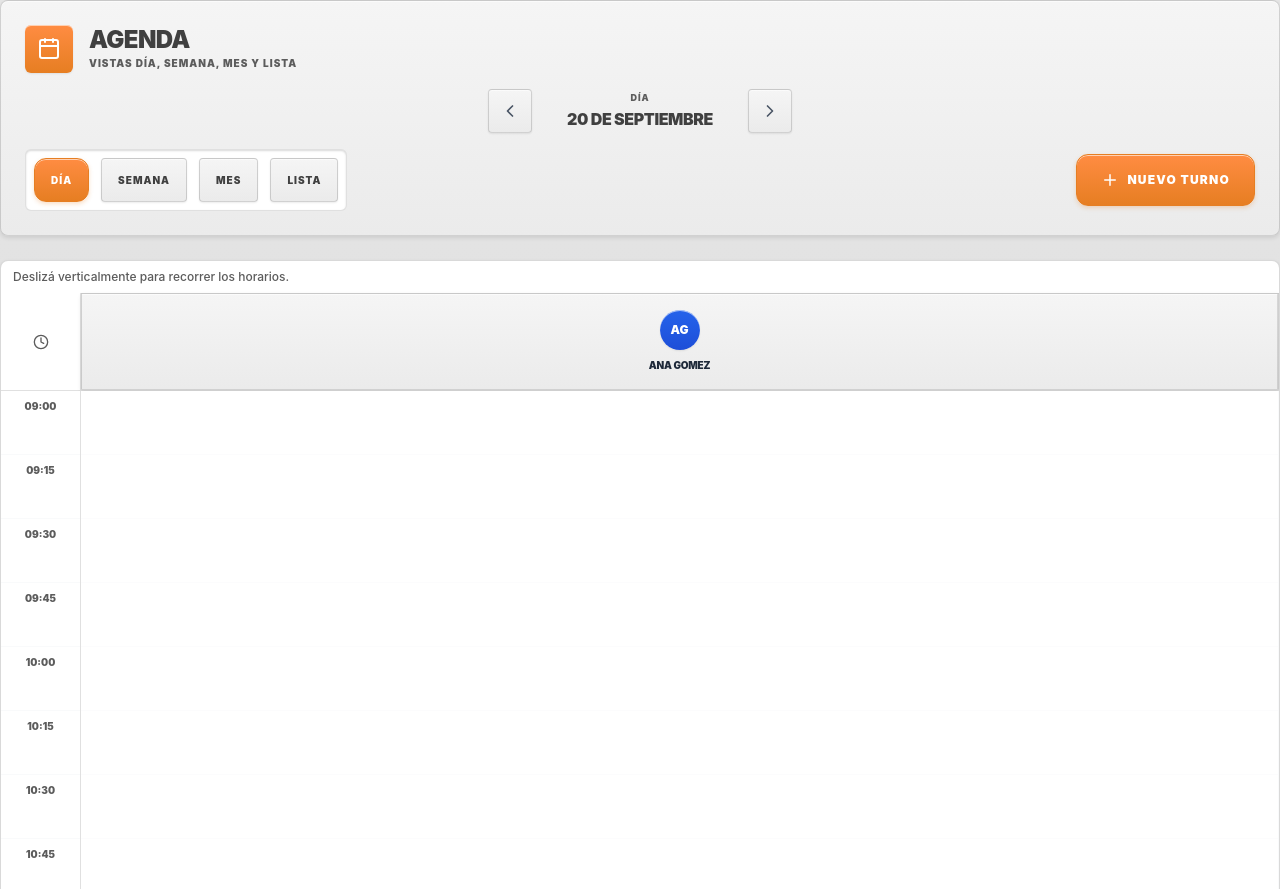
Test: CalendarContainer - vistas, orden y navegacion (F11c-08) › la vista Mes salta hacia atras a 20 de agosto y hacia adelante a 20 de octubre
Click the button "Mes". click: x=229, y=180
box: [199,158,258,202]
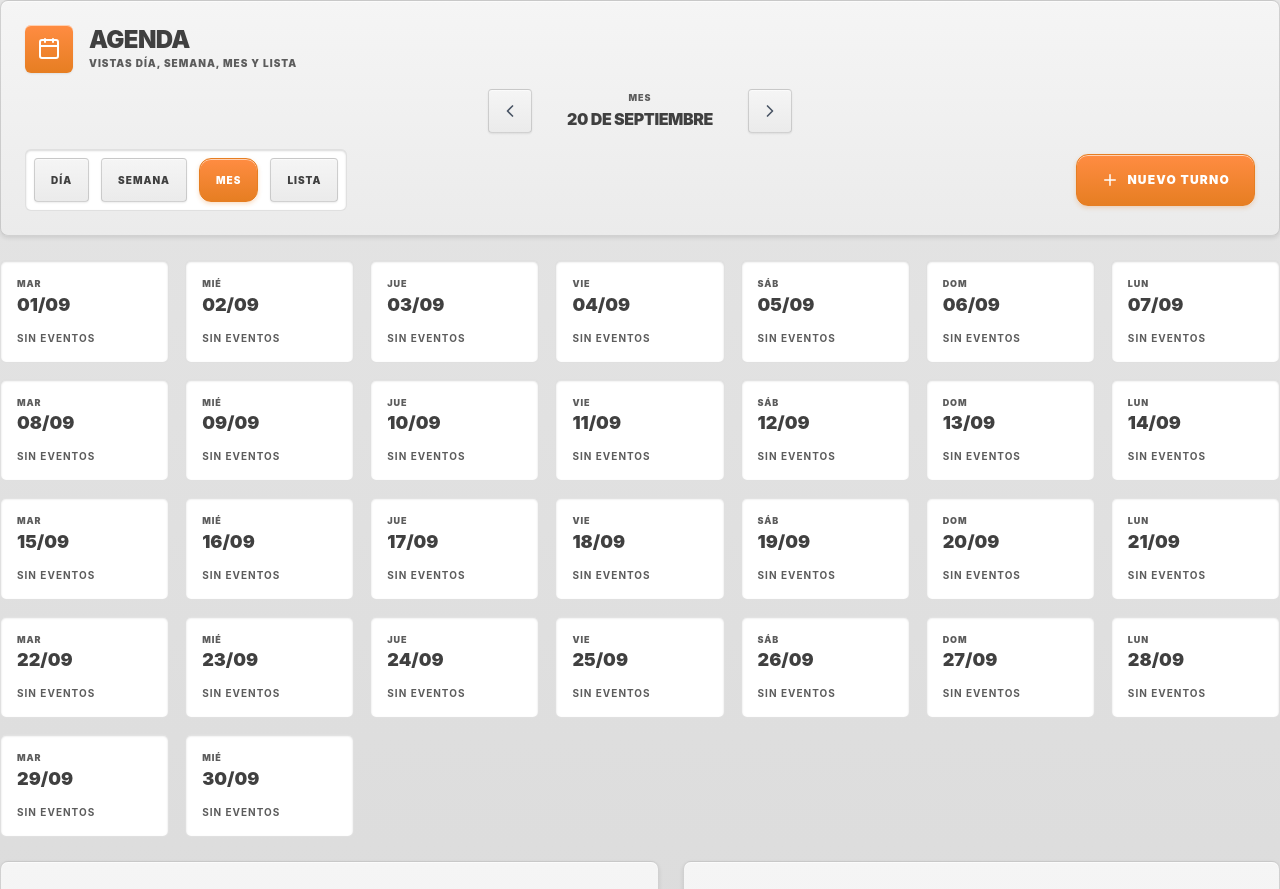
Expected: the text "20 de septiembre" is shown, [564,107,716,131]
Click the button named "Anterior". click: x=510, y=111
box: [488,89,532,133]
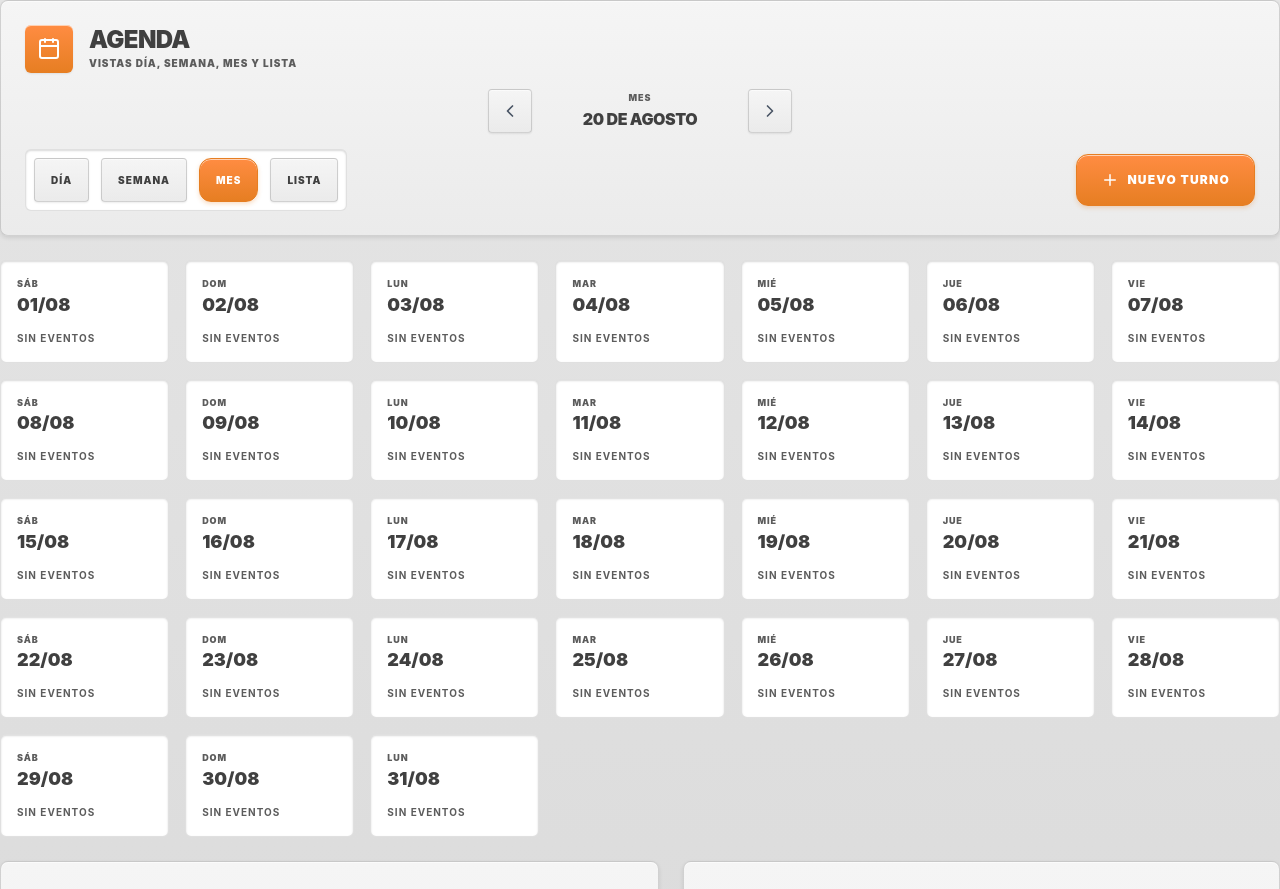
Now the text "20 de agosto" is shown, box [583,109,697,129]
Click the button named "Siguiente". click: x=770, y=111
box: [748,89,792,133]
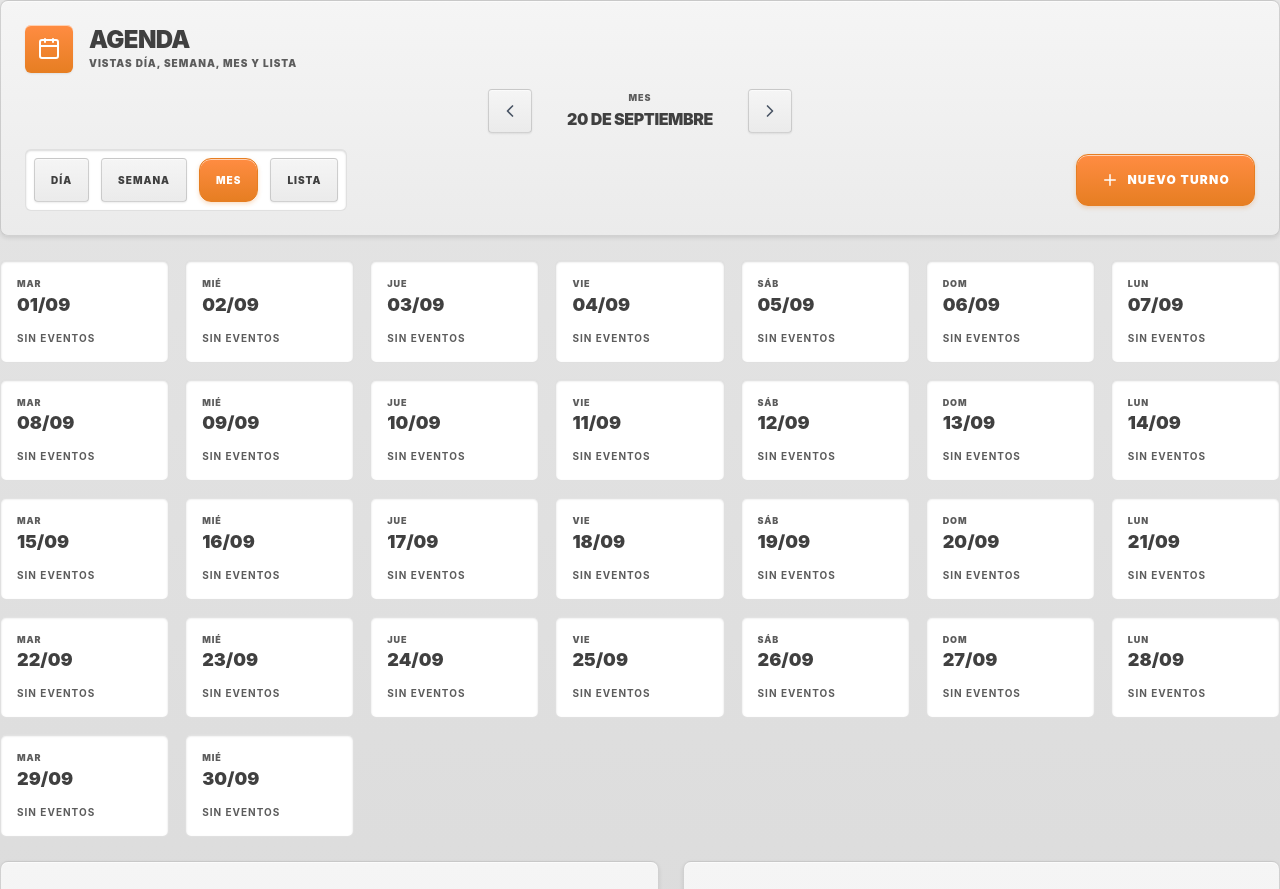
Click the button named "Siguiente". click: x=770, y=111
box: [748,89,792,133]
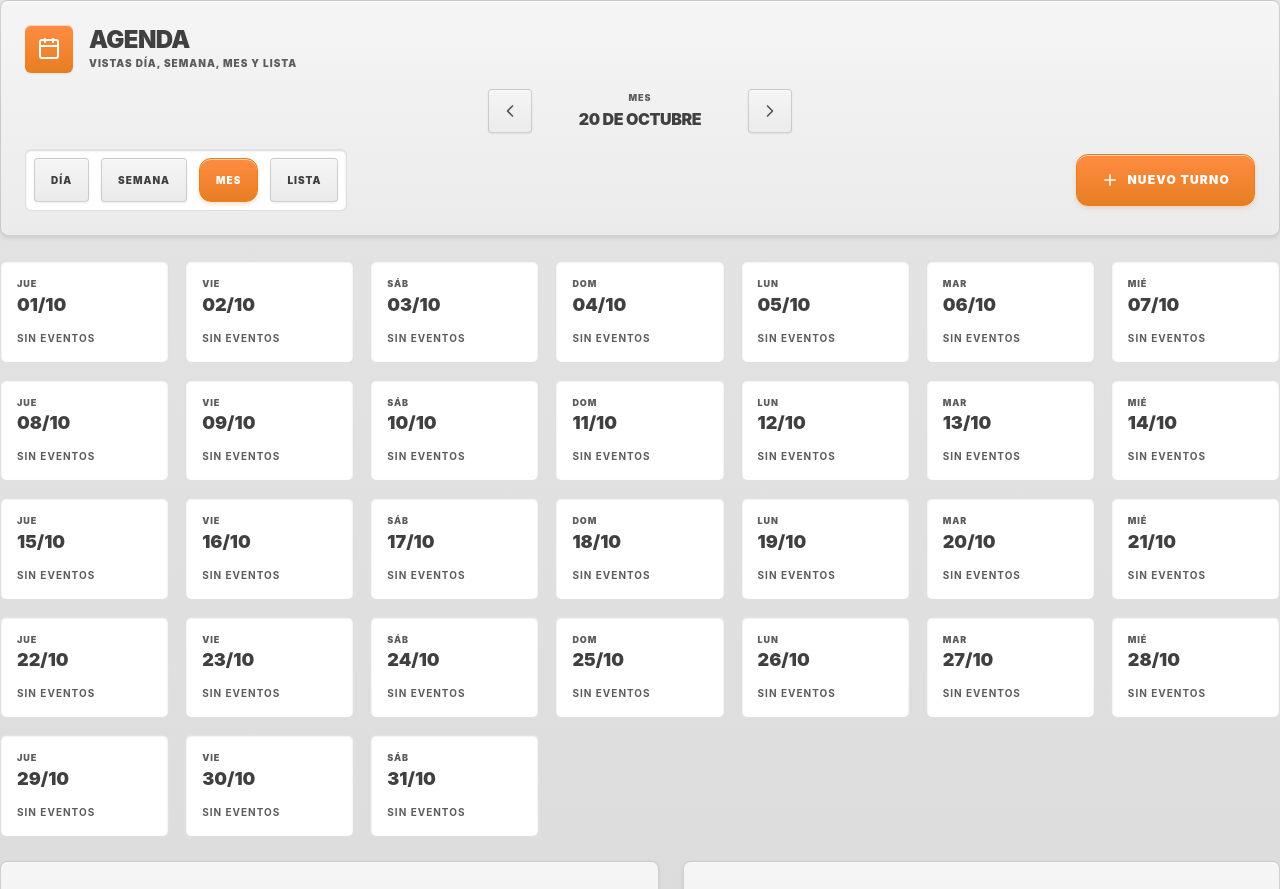
Now the text "20 de octubre" is shown, box [579,109,701,129]
